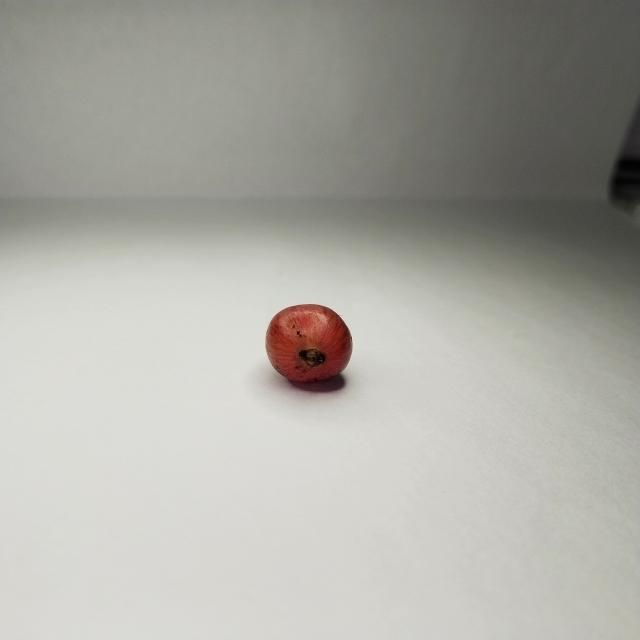Infectado: (265, 304, 353, 391)
